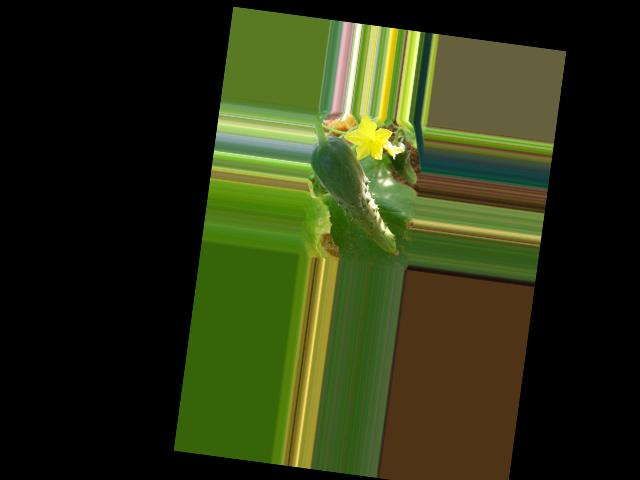cucumber: (299, 133, 413, 256)
